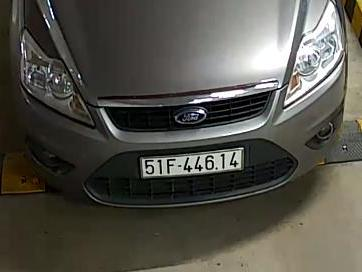car: (139, 147, 246, 180)
